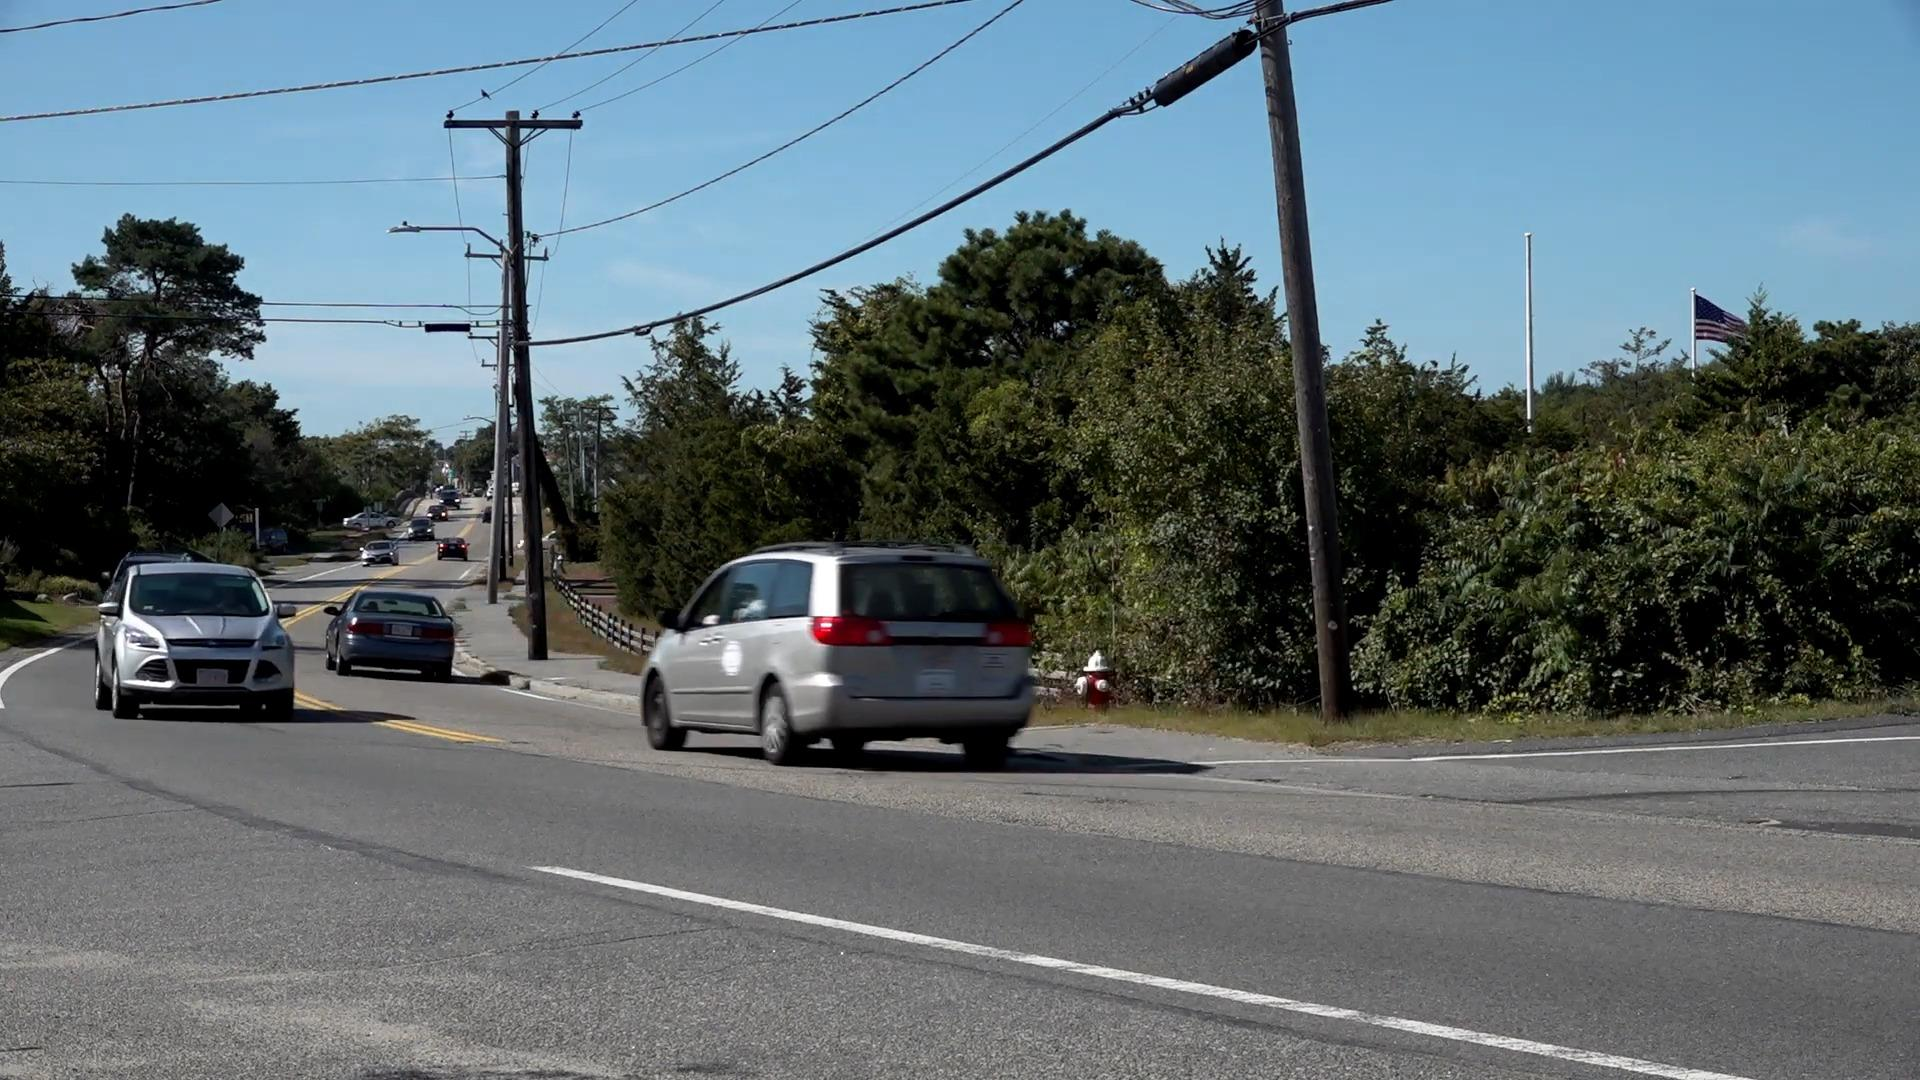minivan: (637, 547, 1037, 760)
sedans: (322, 589, 454, 682)
suv: (98, 562, 297, 727)
